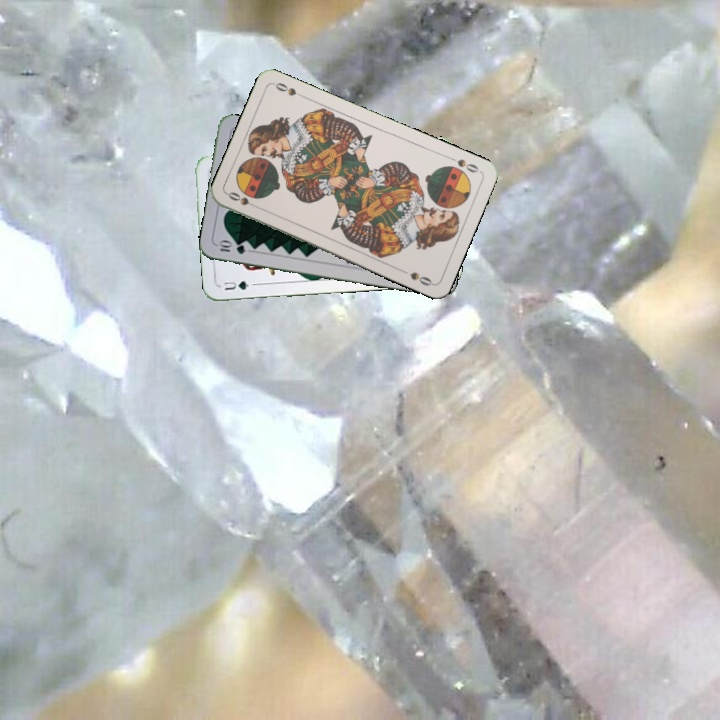G10: (215, 238, 248, 257)
GU: (220, 276, 258, 293)
SO: (444, 152, 483, 175), (224, 188, 262, 211)
